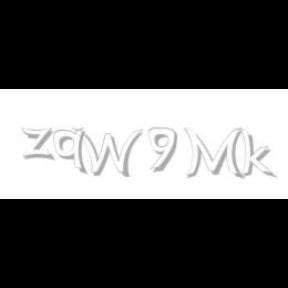9: (148, 128, 178, 172)
M: (184, 128, 243, 180)
W: (71, 128, 143, 178)
k: (239, 128, 277, 180)
q: (53, 128, 89, 176)
z: (21, 128, 57, 160)
